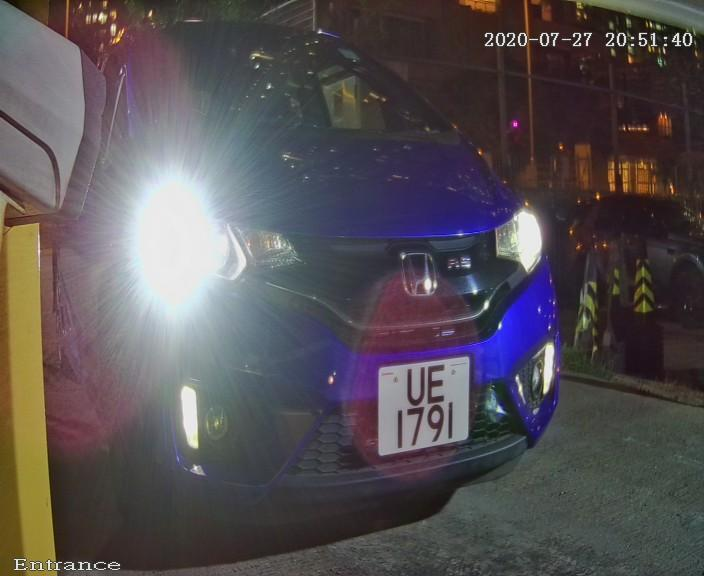privatecar: (73, 6, 582, 543)
